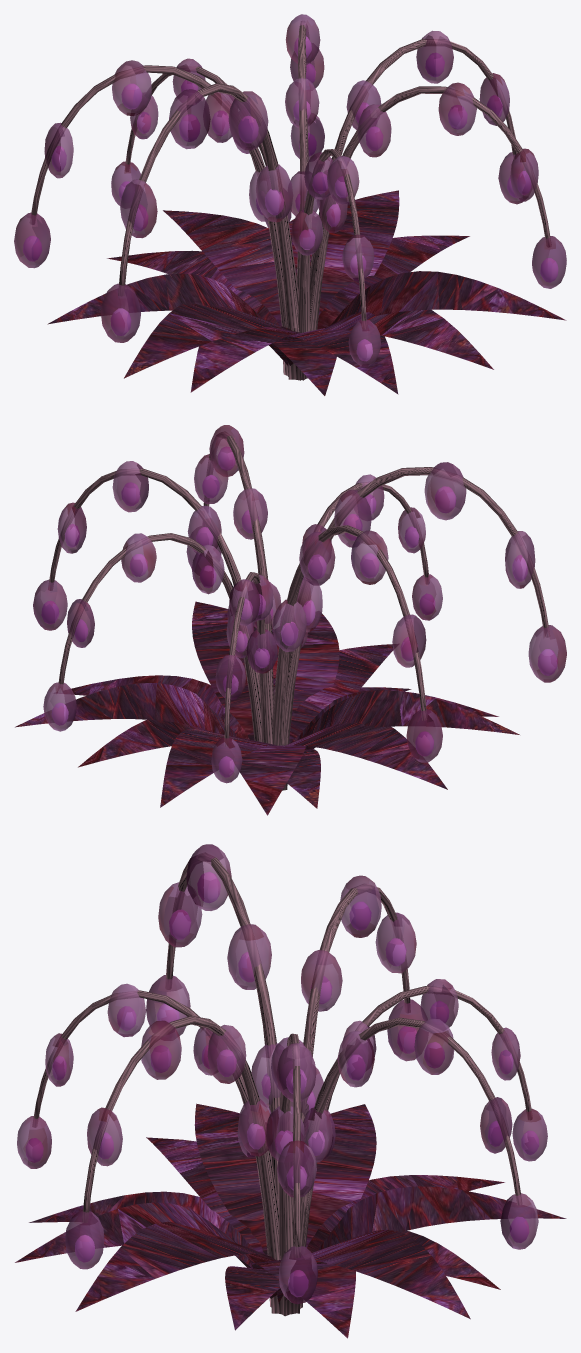
Rendered from bladder_00.glb.
3 renders of one model, top to bottom at view 1: azimuth 30°, elevation 25°; view 2: azimuth 150°, elevation 25°; view 3: azimuth 270°, elevation 25°, orthographic. The views are drawn at different scales.
Parts seen in each view (by area): view 1: export; view 2: export; view 3: export.
Boxes of the visible parts, <box> form: export: <box>14,14,566,395</box>; export: <box>15,425,566,815</box>; export: <box>15,844,566,1338</box>.
Size of the model in its own units: 1.65 by 1.12 by 1.46.
Materials: 4 (4 with a texture image).
